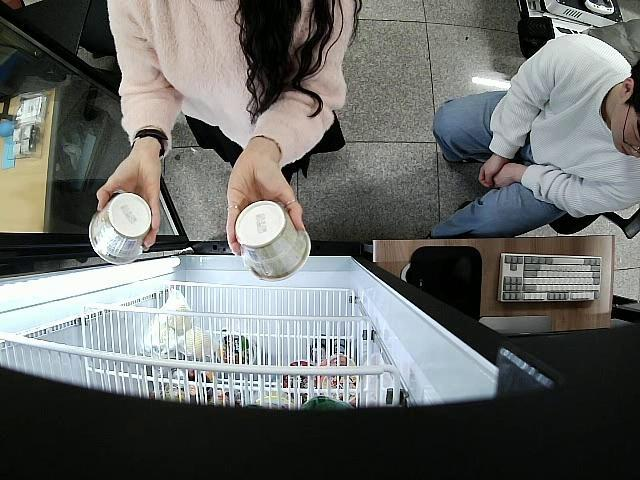04_chapagetti_S: (234, 202, 310, 284), (88, 192, 152, 264)
